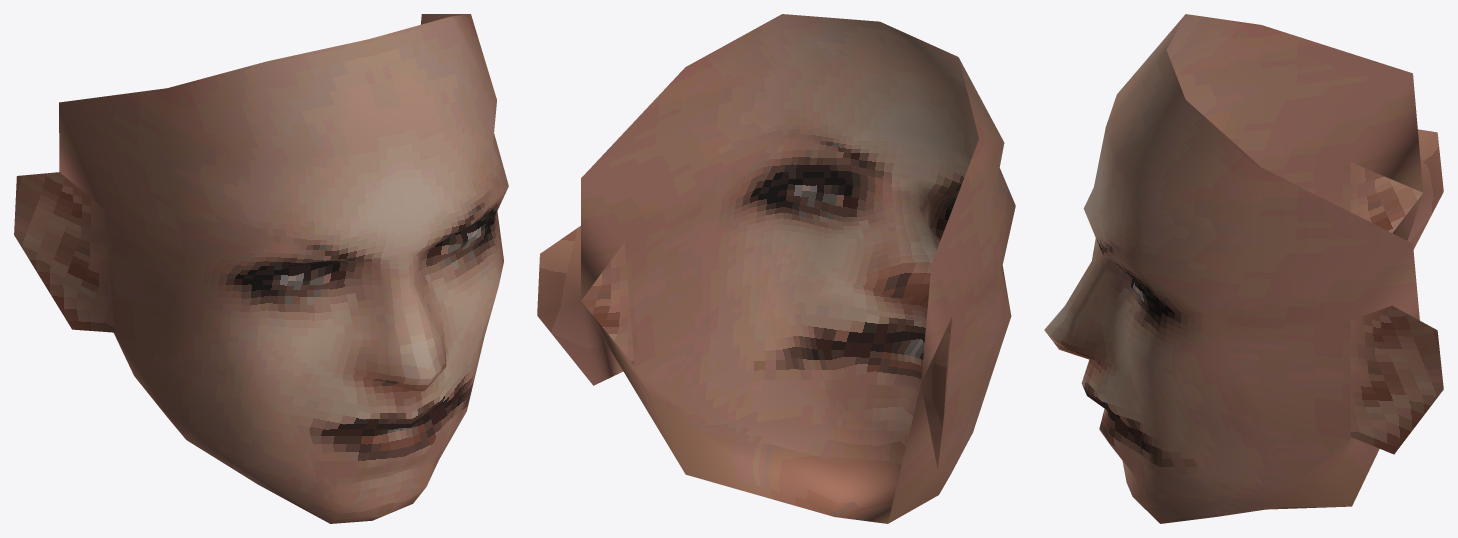
The picture shows the model from 3 angles, left to right: view 1: azimuth 30°, elevation 25°; view 2: azimuth 150°, elevation 25°; view 3: azimuth 270°, elevation 25°; orthographic projection. The views are drawn at different scales.
Size of the model in its own units: 17.18 by 18.64 by 14.66.
Materials: 1 (1 with a texture image).
